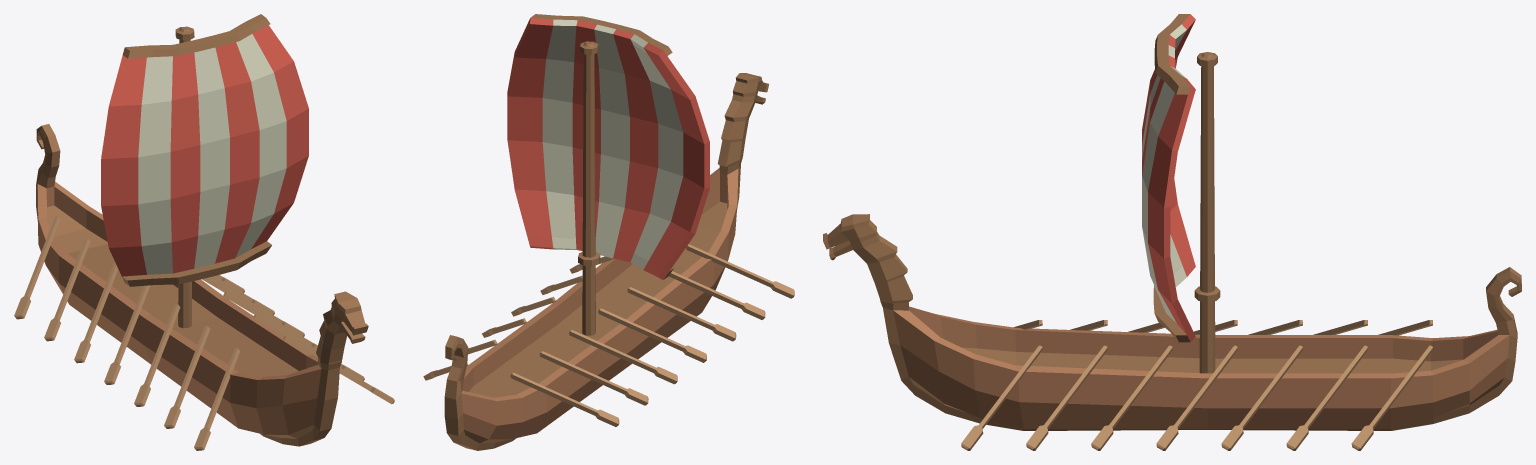
File: galley.glb
The picture shows the model from 3 angles, left to right: view 1: azimuth 30°, elevation 25°; view 2: azimuth 150°, elevation 25°; view 3: azimuth 270°, elevation 25°; orthographic projection. The views are drawn at different scales.
Parts seen in each view (by area): view 1: Sail; view 2: Sail; view 3: Sail.
Part boxes in pixels (left/top/right/bottom): Sail: left=14, top=14, right=394, bottom=450; Sail: left=423, top=14, right=794, bottom=450; Sail: left=823, top=14, right=1521, bottom=450.
Size of the model in its own units: 1.57 by 2.51 by 4.2.
Materials: 1 (1 with a texture image).
